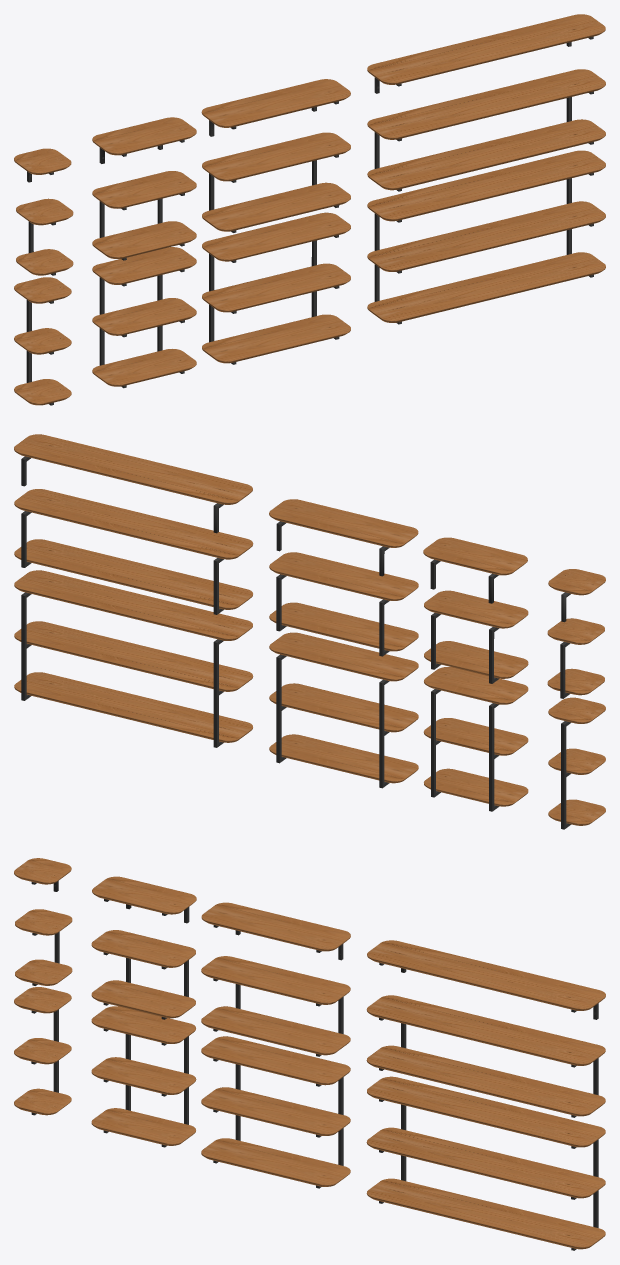
The model's file is modern_floating_wooden_shelf.glb.
3 views of the same model, one above another, from view 1: azimuth 30°, elevation 25°; view 2: azimuth 150°, elevation 25°; view 3: azimuth 330°, elevation 25° (orthographic).
Parts seen in each view (by area): view 1: polka_1_400_Material #40_0, polka_1_400_Material #37_0, polka_2_400_Material #39_0; view 2: polka_1_400_Material #40_0, polka_1_400_Material #37_0, polka_2_400_Material #39_0, polka_1_400_Material #39_0; view 3: polka_1_400_Material #40_0, polka_1_400_Material #37_0, polka_2_400_Material #39_0.
Boxes of the visible parts, left/top/right/bottom form: polka_1_400_Material #40_0: left=14, top=14, right=605, bottom=402; polka_1_400_Material #37_0: left=14, top=14, right=605, bottom=405; polka_2_400_Material #39_0: left=26, top=91, right=593, bottom=405; polka_1_400_Material #40_0: left=14, top=434, right=605, bottom=823; polka_1_400_Material #37_0: left=14, top=434, right=605, bottom=825; polka_2_400_Material #39_0: left=21, top=511, right=571, bottom=829; polka_1_400_Material #39_0: left=21, top=456, right=498, bottom=603; polka_1_400_Material #40_0: left=14, top=858, right=605, bottom=1246; polka_1_400_Material #37_0: left=14, top=858, right=605, bottom=1249; polka_2_400_Material #39_0: left=31, top=881, right=598, bottom=1250.
Bounding box in the file's own units: 2.58 × 1.05 × 0.2114.
Materials: 4 (2 with a texture image).
